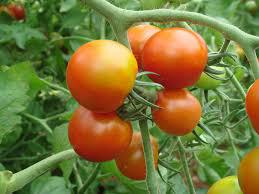tomato: (64, 39, 136, 109), (139, 25, 205, 86), (66, 104, 131, 163), (149, 87, 202, 133), (117, 132, 159, 180), (124, 23, 163, 58)
